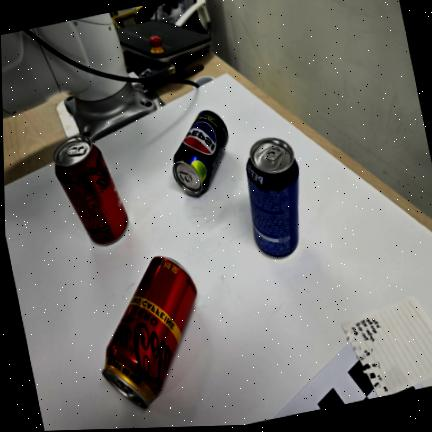can_coke_decaf: (102, 256, 197, 407)
can_coke_zero: (54, 135, 128, 244)
can_pepsi: (246, 137, 299, 257)
can_pepsi_zero: (173, 110, 228, 195)
